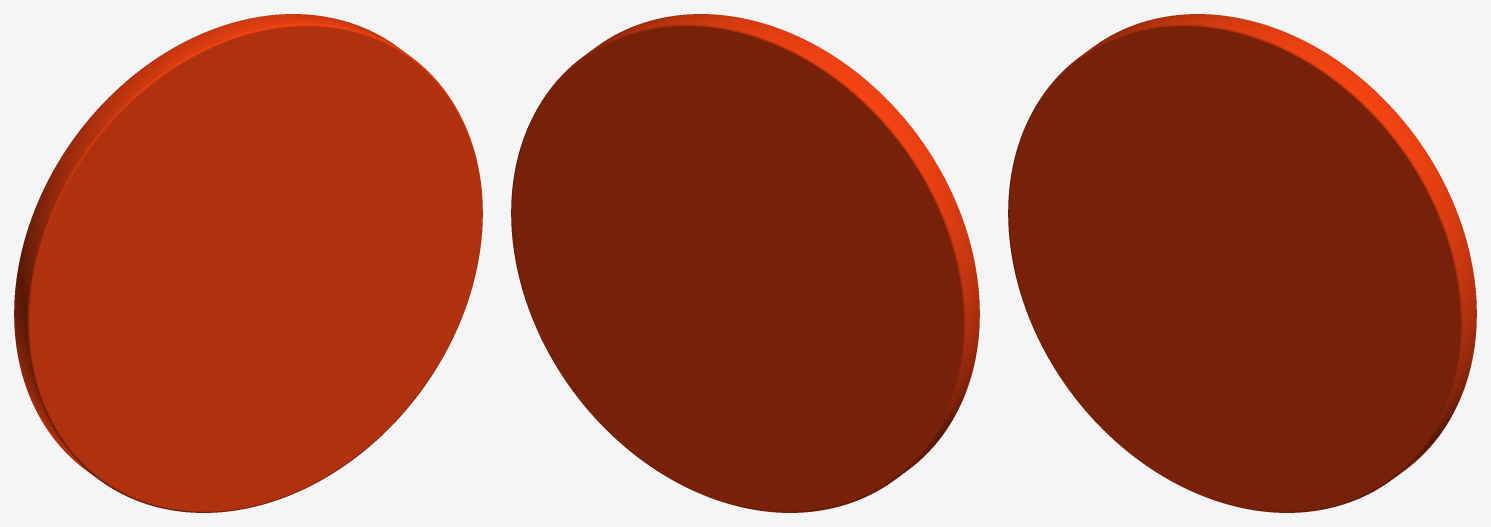
The model's file is lidar_mount_worx_orange.obj.
3 renders of one model, left to right at view 1: azimuth 30°, elevation 25°; view 2: azimuth 150°, elevation 25°; view 3: azimuth 330°, elevation 25°, orthographic.
Visible parts, largest first — view 1: lidar_mount__lidar_band; view 2: lidar_mount__lidar_band; view 3: lidar_mount__lidar_band.
Part boxes in pixels (x1=…): lidar_mount__lidar_band: x1=14, y1=14, x2=482, y2=512; lidar_mount__lidar_band: x1=511, y1=14, x2=979, y2=512; lidar_mount__lidar_band: x1=1008, y1=14, x2=1476, y2=512.
Bounding box in the file's own units: 0.0704 × 0.0704 × 0.004.
